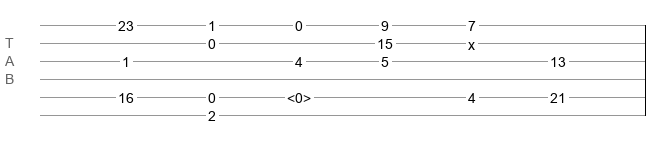0: (208, 36, 216, 46), (208, 90, 216, 100), (295, 18, 303, 28)
1: (122, 54, 130, 64), (208, 18, 216, 28)
13: (550, 54, 566, 64)
15: (377, 36, 393, 46)
16: (118, 90, 134, 100)
2: (208, 108, 216, 118)
21: (550, 90, 566, 100)
23: (118, 18, 134, 28)
4: (295, 54, 303, 64), (468, 90, 476, 100)
5: (381, 54, 389, 64)
7: (468, 18, 476, 28)
9: (381, 18, 389, 28)
harmonic: (287, 90, 311, 100)
x: (468, 37, 475, 45)
